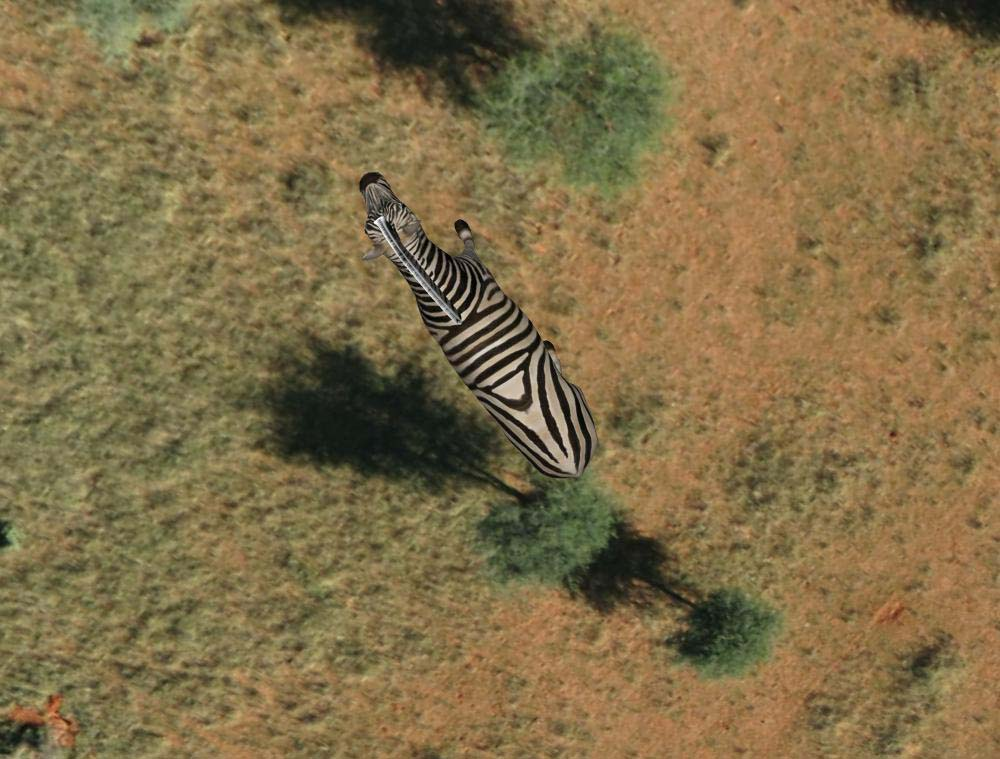zebra: (359, 173, 599, 483)
